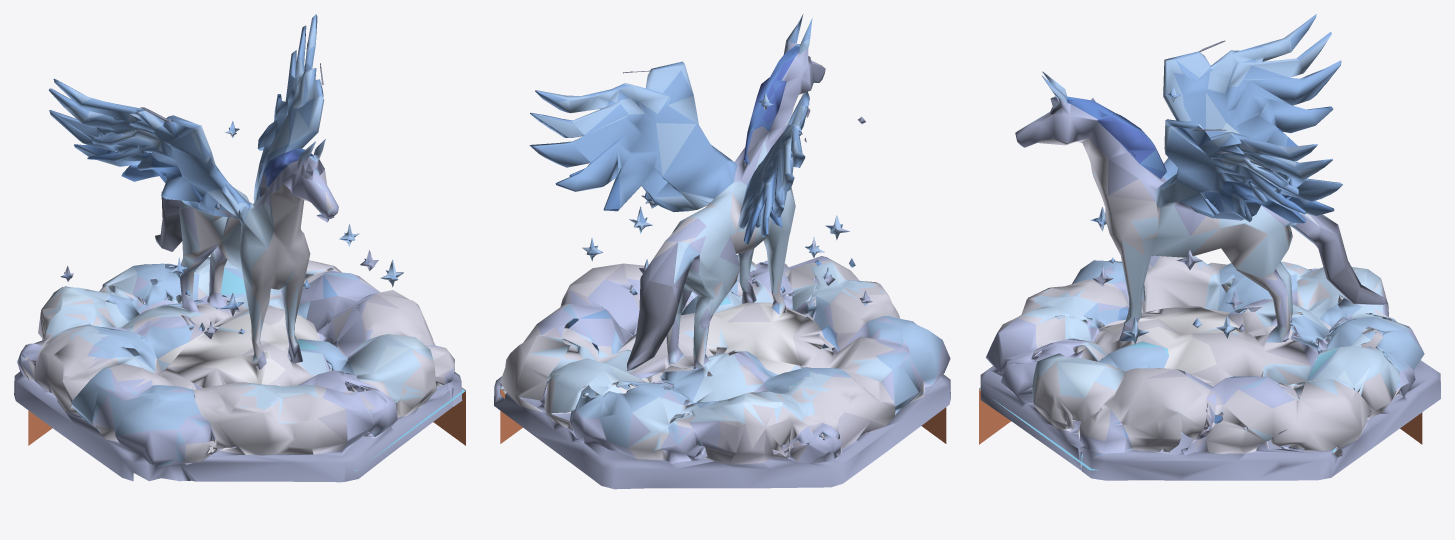
The model's file is pegasus.glb.
3 views of the same model, side by side, from view 1: azimuth 30°, elevation 25°; view 2: azimuth 150°, elevation 25°; view 3: azimuth 270°, elevation 25° (orthographic).
Parts seen in each view (by area): view 1: world, hexBase; view 2: world, hexBase; view 3: world, hexBase.
Part boxes in pixels (x1,y1,x2,y2): world: [14, 14, 462, 482]; hexBase: [28, 388, 465, 470]; world: [494, 14, 950, 489]; hexBase: [500, 387, 946, 443]; world: [980, 14, 1440, 480]; hexBase: [979, 387, 1422, 470].
Bounding box in the file's own units: 1.04 × 1.06 × 1.2.
1 material, 1 textured.
